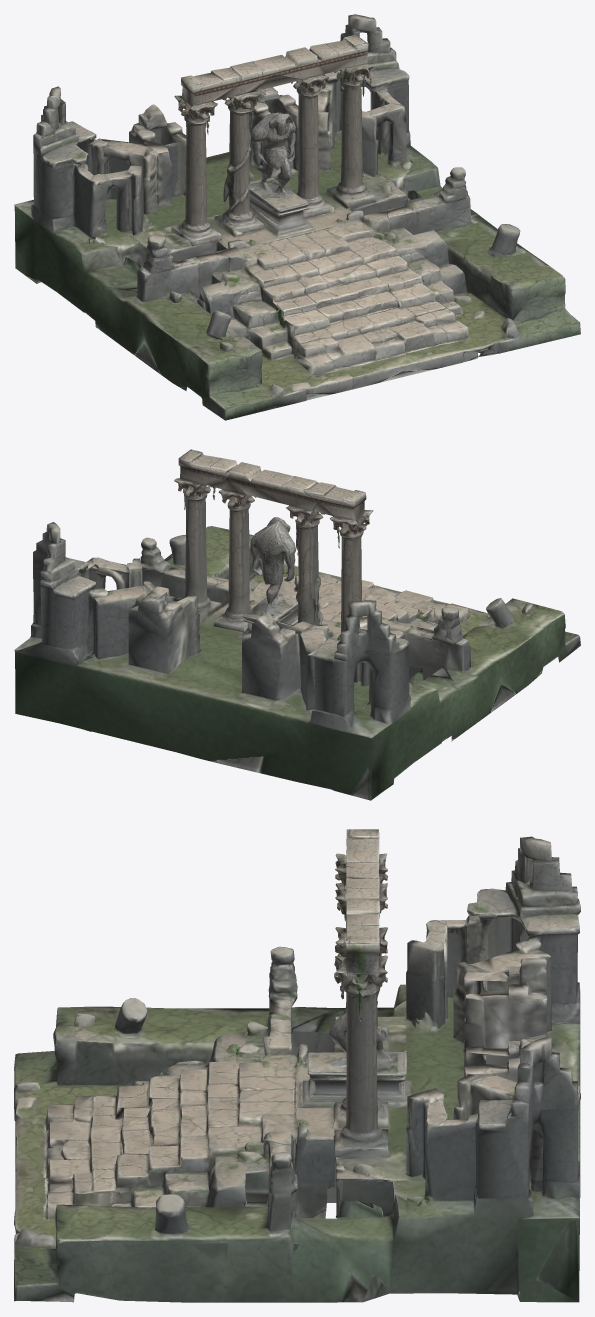
File: big_ruins.fbx
3 views of the same model, one above another, from view 1: azimuth 30°, elevation 25°; view 2: azimuth 150°, elevation 25°; view 3: azimuth 270°, elevation 25° (orthographic). The views are drawn at different scales.
Parts seen in each view (by area): view 1: big_ruins; view 2: big_ruins; view 3: big_ruins.
Boxes of the visible parts, left/top/right/bottom form: big_ruins: left=14, top=14, right=580, bottom=420; big_ruins: left=14, top=449, right=580, bottom=800; big_ruins: left=14, top=829, right=580, bottom=1302.
Bounding box in the file's own units: 1.87 × 1.11 × 1.9.
Materials: 1 (1 with a texture image).
